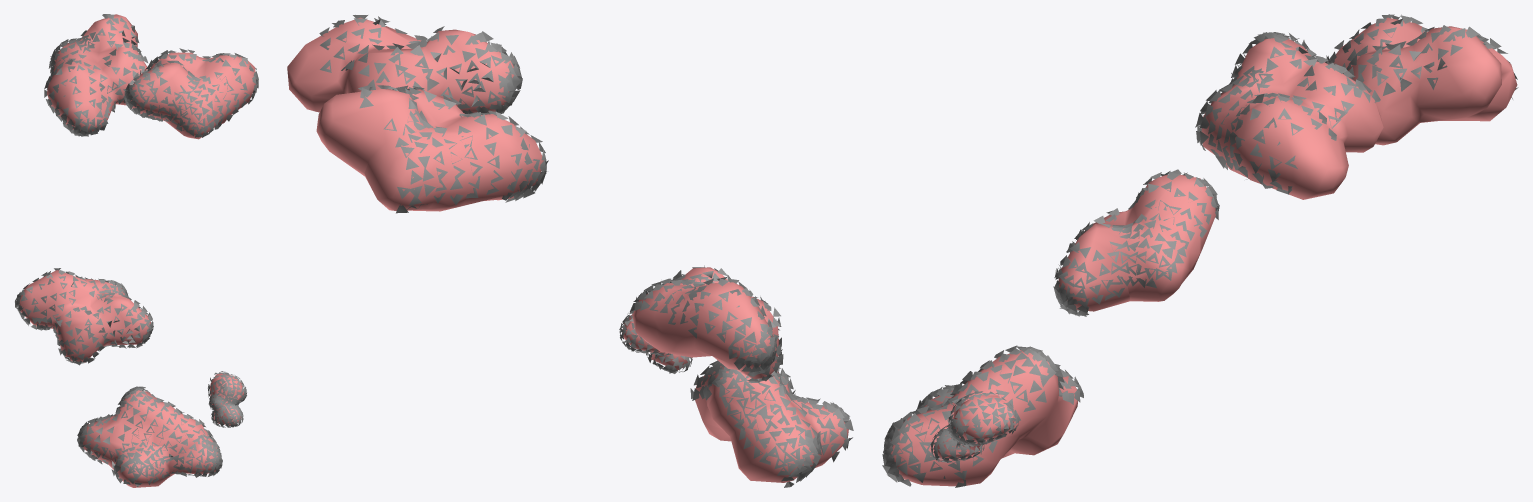
File: SM_ENV_LKNVLD_TreeSet_Q_Lod2.gltf
3 views of the same model, side by side, from view 1: azimuth 30°, elevation 25°; view 2: azimuth 150°, elevation 25°; view 3: azimuth 270°, elevation 25° (orthographic). The views are drawn at different scales.
Visible parts, largest first — view 1: SM_ENV_LKNVLD_TreeSet_Q_Lod2; view 2: SM_ENV_LKNVLD_TreeSet_Q_Lod2; view 3: SM_ENV_LKNVLD_TreeSet_Q_Lod2.
Boxes of the visible parts, x1,y1,x2,y2 form: SM_ENV_LKNVLD_TreeSet_Q_Lod2: (15,14,258,487); SM_ENV_LKNVLD_TreeSet_Q_Lod2: (287,15,853,487); SM_ENV_LKNVLD_TreeSet_Q_Lod2: (882,14,1518,487).
Size of the model in its own units: 29.6 by 34.07 by 37.05.
